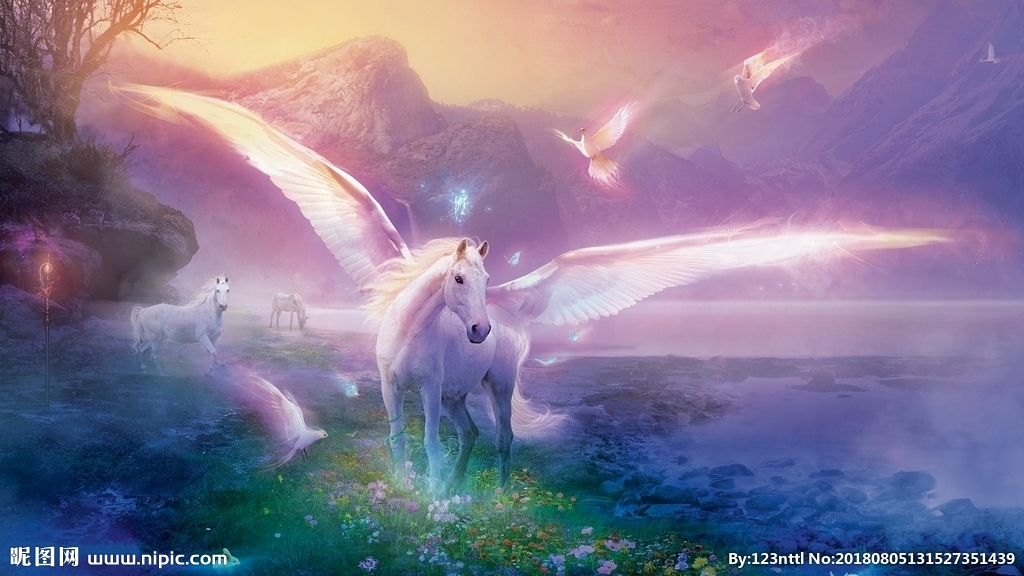horse: (367, 236, 530, 515), (127, 272, 232, 376), (265, 288, 310, 335)
